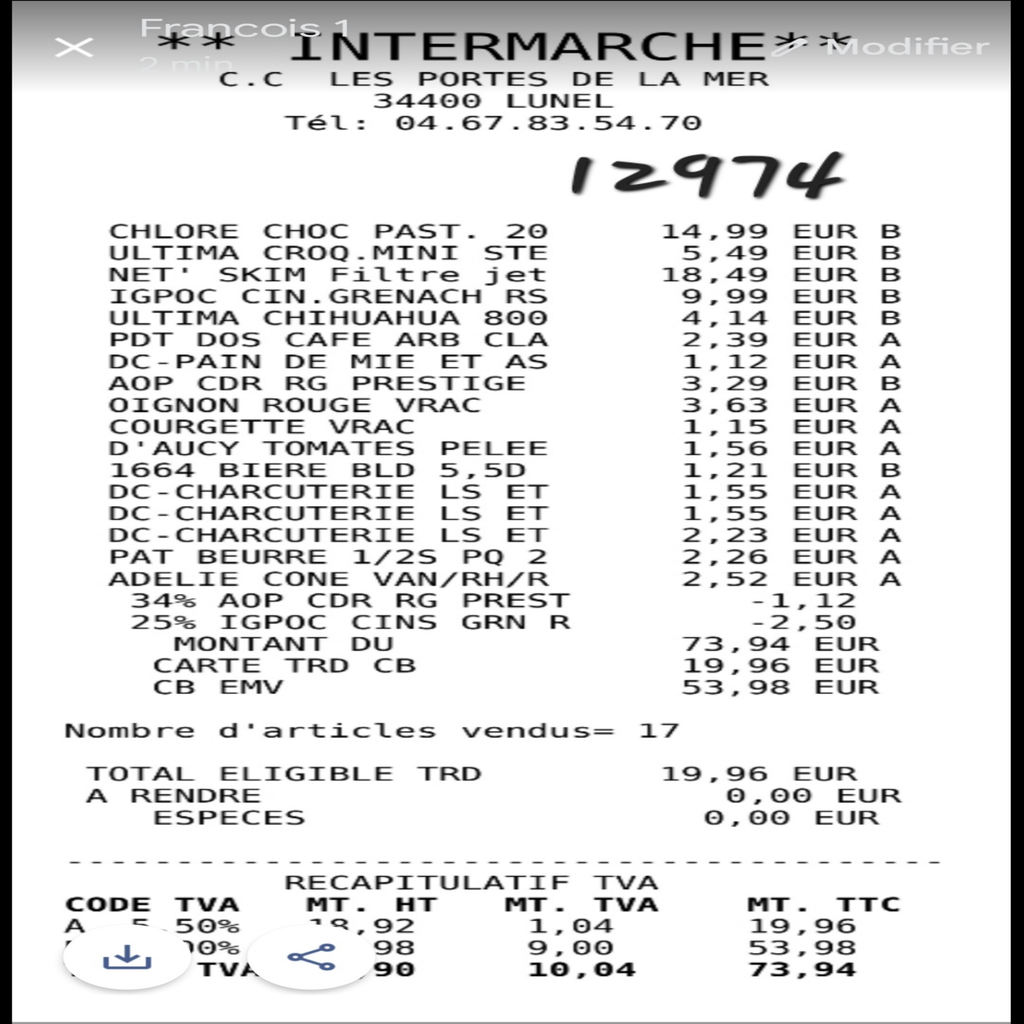recipt: (11, 0, 1011, 1020)
